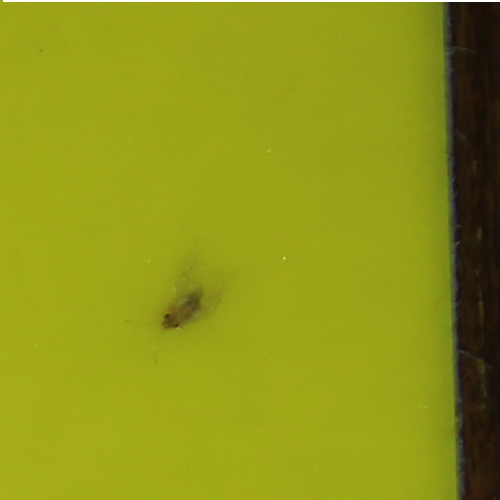Glycaspis: (161, 292, 204, 329)
